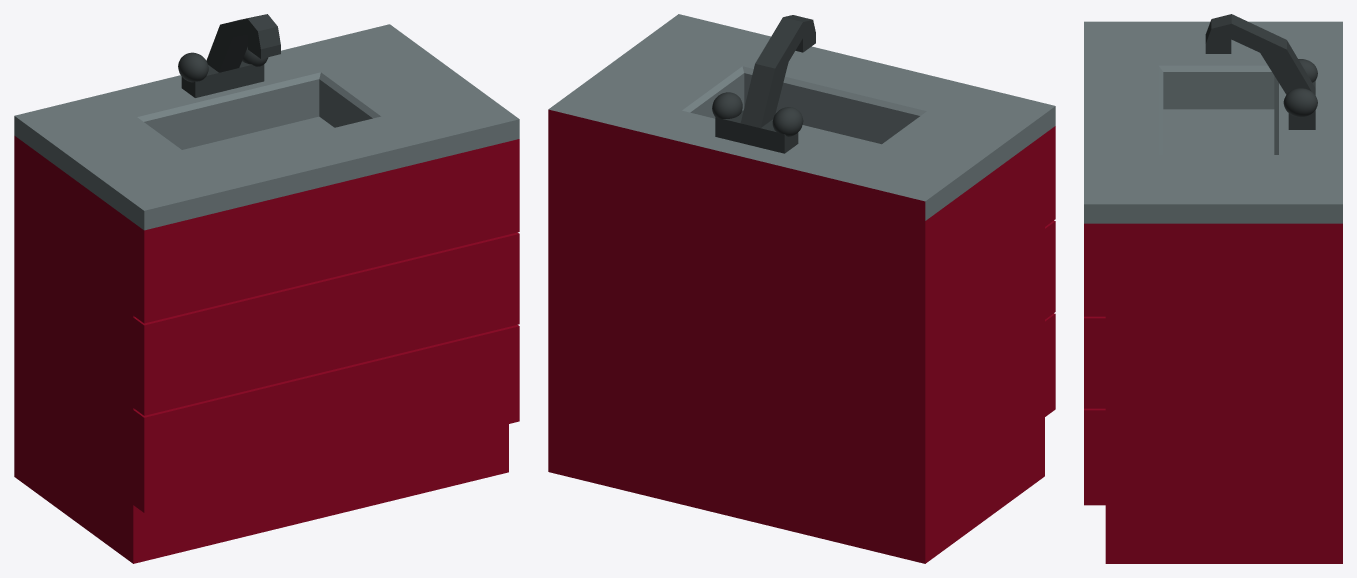
The model's file is DishWasher.fbx.
3 views of the same model, side by side, from view 1: azimuth 30°, elevation 25°; view 2: azimuth 150°, elevation 25°; view 3: azimuth 270°, elevation 25° (orthographic).
Visible parts, largest first — view 1: cabinet-kitchen-large1; view 2: cabinet-kitchen-large1; view 3: cabinet-kitchen-large1.
Boxes of the visible parts, x1,y1,x2,y2 form: cabinet-kitchen-large1: (14,14,519,563); cabinet-kitchen-large1: (548,14,1055,563); cabinet-kitchen-large1: (1084,14,1342,563).
Bounding box in the file's own units: 100 × 116 × 60.
